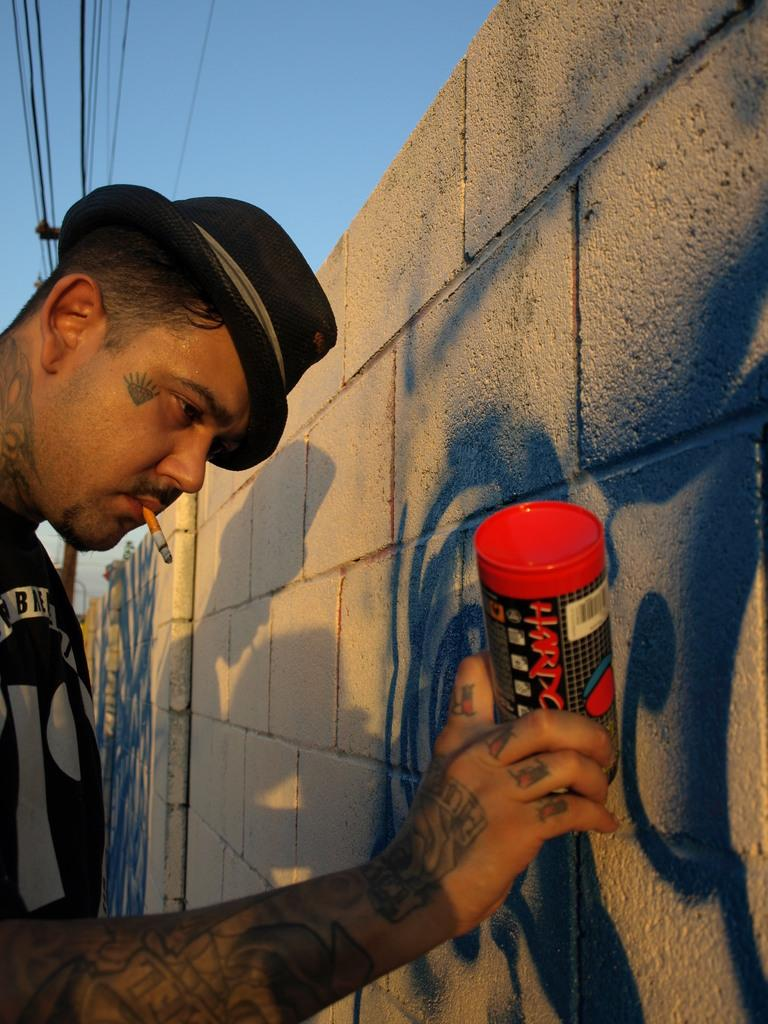Hat: (60, 183, 338, 475)
